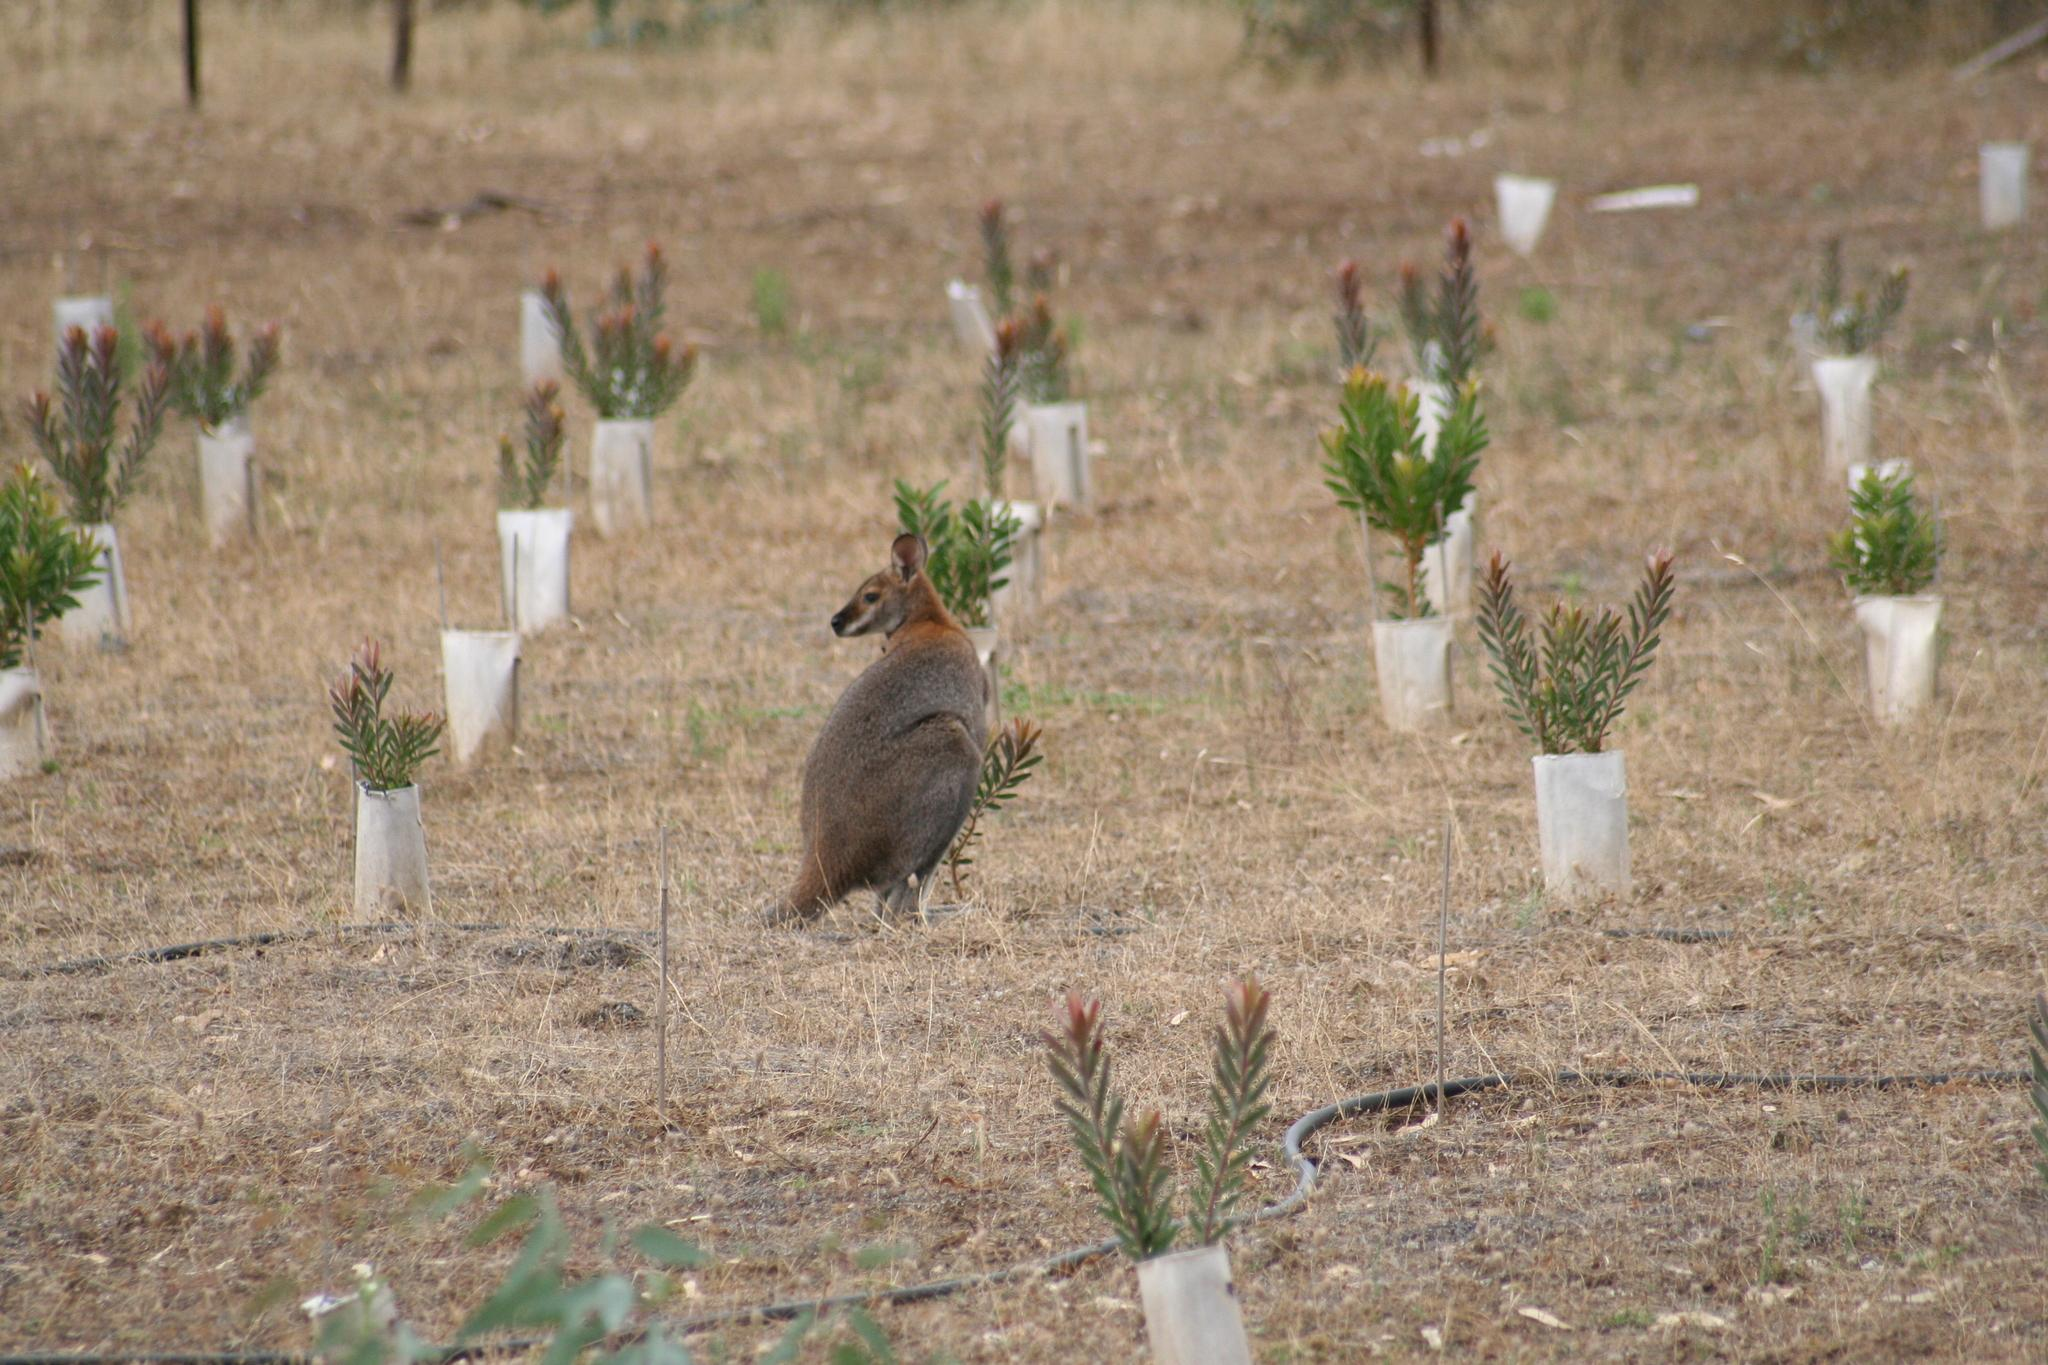Red-necked wallaby: (714, 529, 997, 951)
